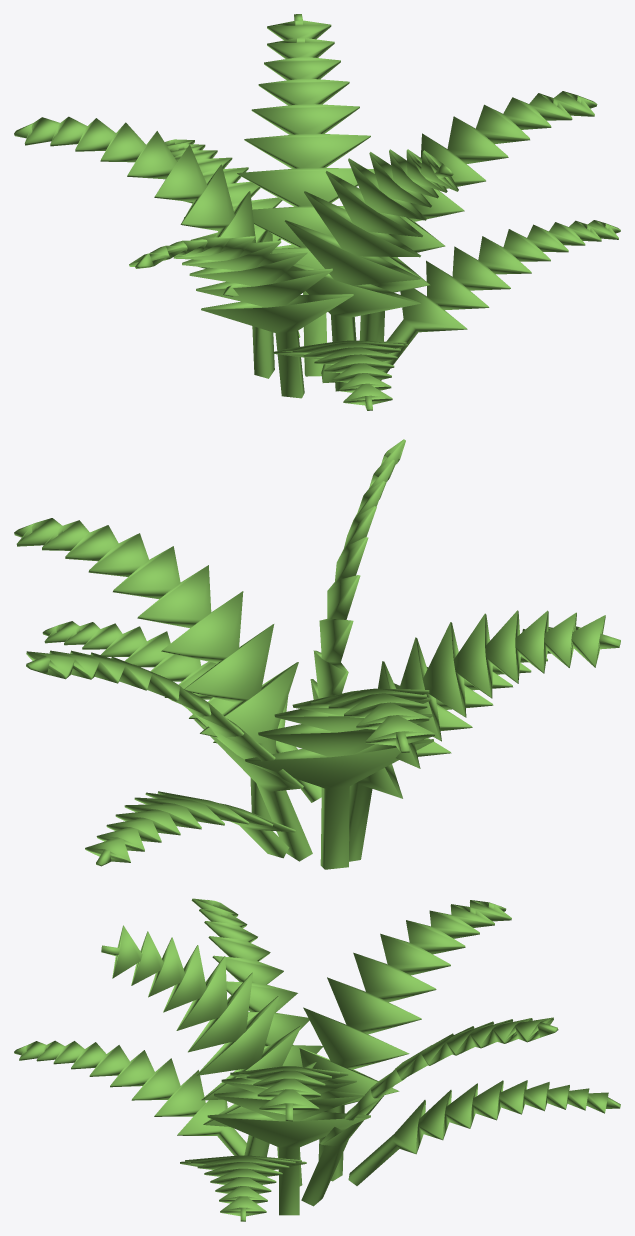
The model's file is tree3.FBX.
The picture shows the model from 3 angles, top to bottom: view 1: azimuth 30°, elevation 25°; view 2: azimuth 150°, elevation 25°; view 3: azimuth 270°, elevation 25°; orthographic projection. The views are drawn at different scales.
Parts seen in each view (by area): view 1: tree3; view 2: tree3; view 3: tree3.
Boxes of the visible parts, box(x1,y1,x2,y2) form: tree3: box(14, 14, 620, 410); tree3: box(14, 439, 620, 869); tree3: box(14, 898, 620, 1221).
Bounding box in the file's own units: 27.79 × 15.9 × 31.21.
